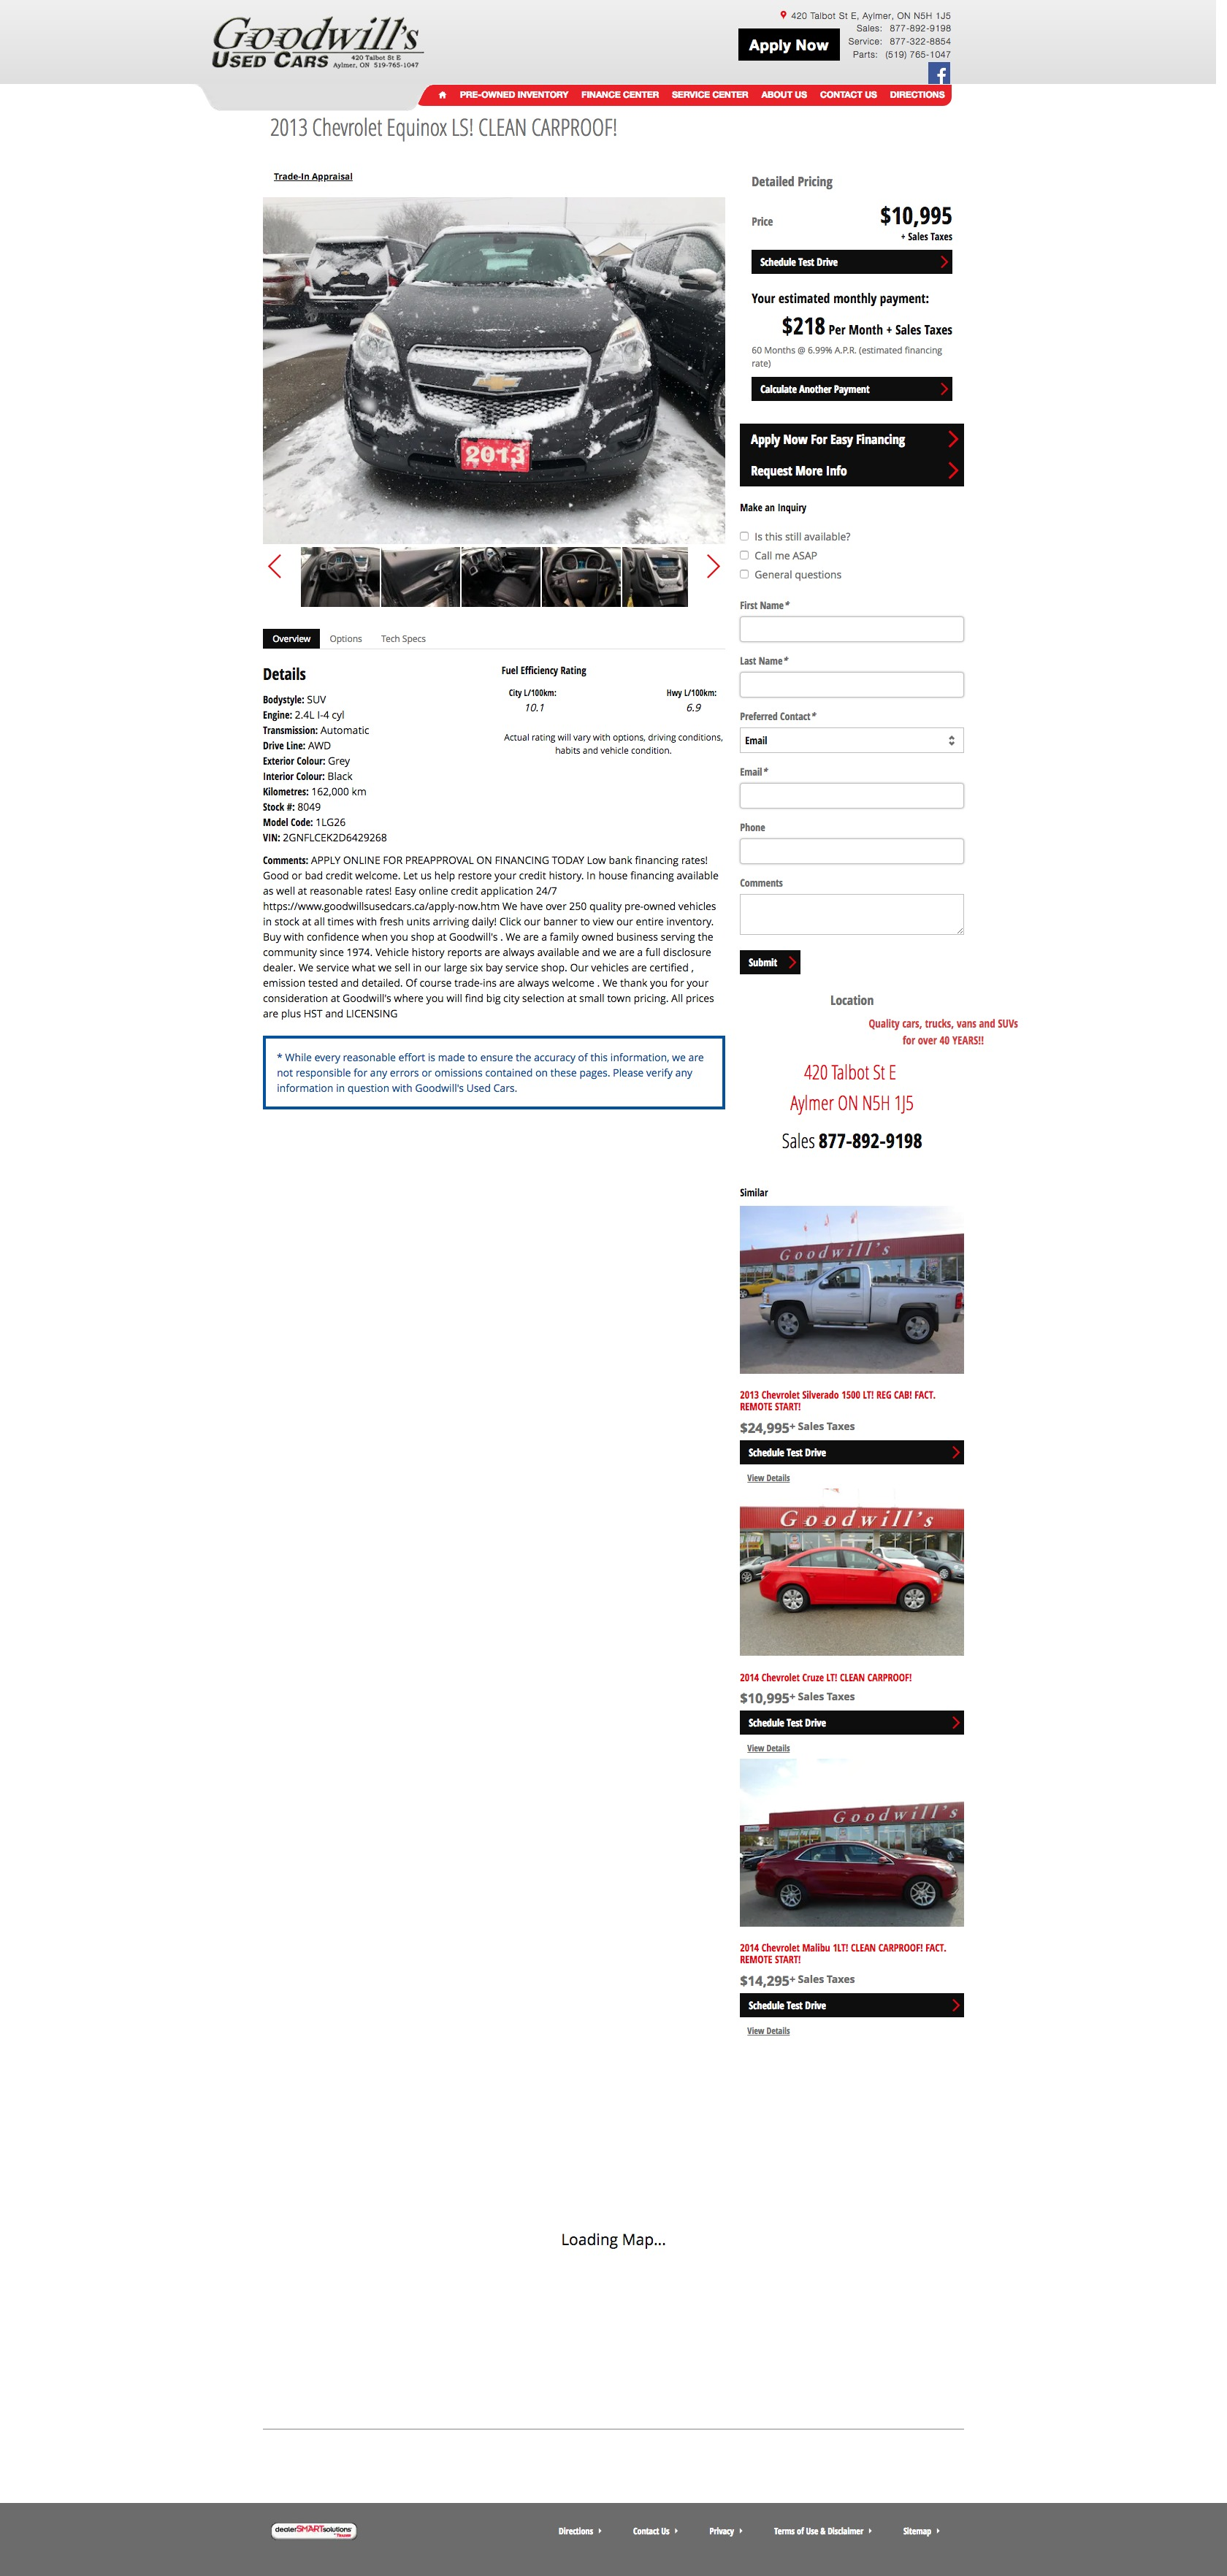car: (706, 554, 721, 580)
